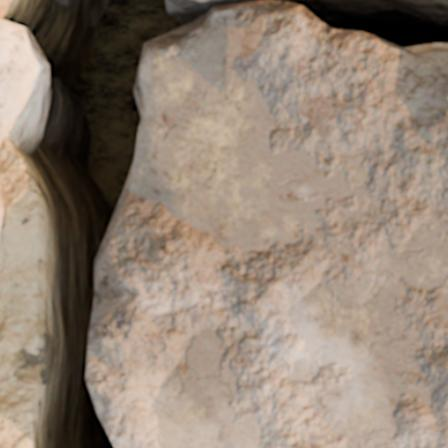brick: (0, 21, 39, 143), (0, 200, 3, 232)
broken_brick: (88, 2, 447, 447)
crack: (0, 0, 447, 447)
